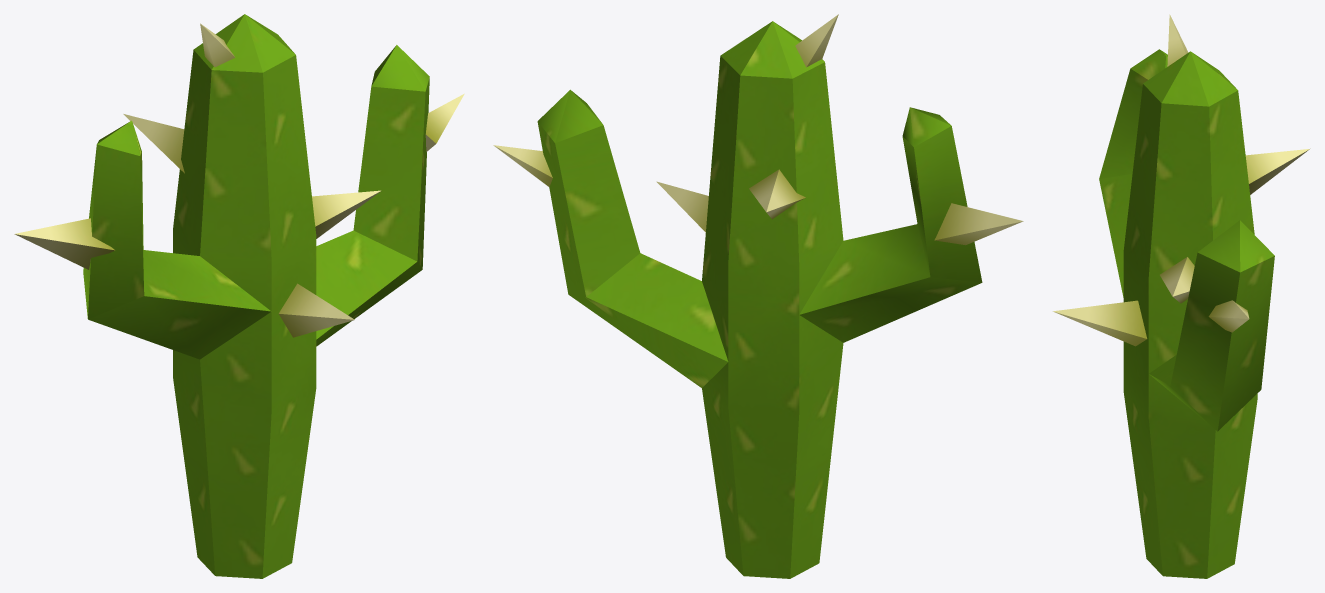
File: Desert_Item_3.fbx
3 renders of one model, left to right at view 1: azimuth 30°, elevation 25°; view 2: azimuth 150°, elevation 25°; view 3: azimuth 270°, elevation 25°, orthographic. The views are drawn at different scales.
Visible parts, largest first — view 1: Desert_Item_3; view 2: Desert_Item_3; view 3: Desert_Item_3.
Part boxes in pixels (x1=…): Desert_Item_3: x1=14, y1=14, x2=464, y2=578; Desert_Item_3: x1=493, y1=14, x2=1023, y2=578; Desert_Item_3: x1=1053, y1=14, x2=1310, y2=578.
Bounding box in the file's own units: 2.79 × 3.01 × 1.35.
Materials: 1 (1 with a texture image).
